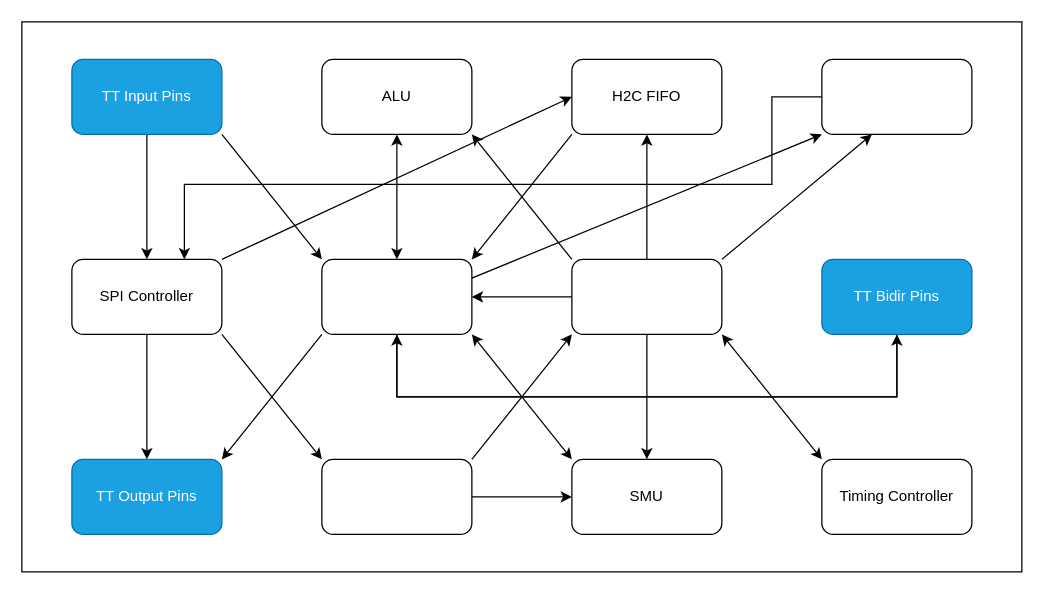
Image size: 1044x594. Some labels were removed from this diagram. The shapes that lost their labels are listed below. From the top down, each one's centre as x and y in pixels, then its label:
the point at 896,96: C2H FIFO
the point at 396,296: Register File
the point at 646,296: Decoder
the point at 396,496: Dual Port SRAM
